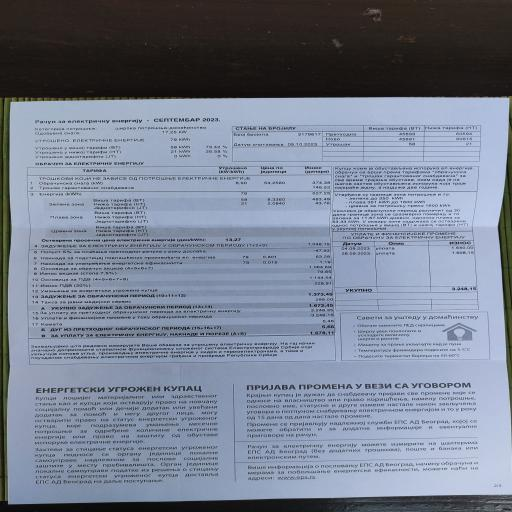racun_za_struju: (23, 160, 333, 249)
